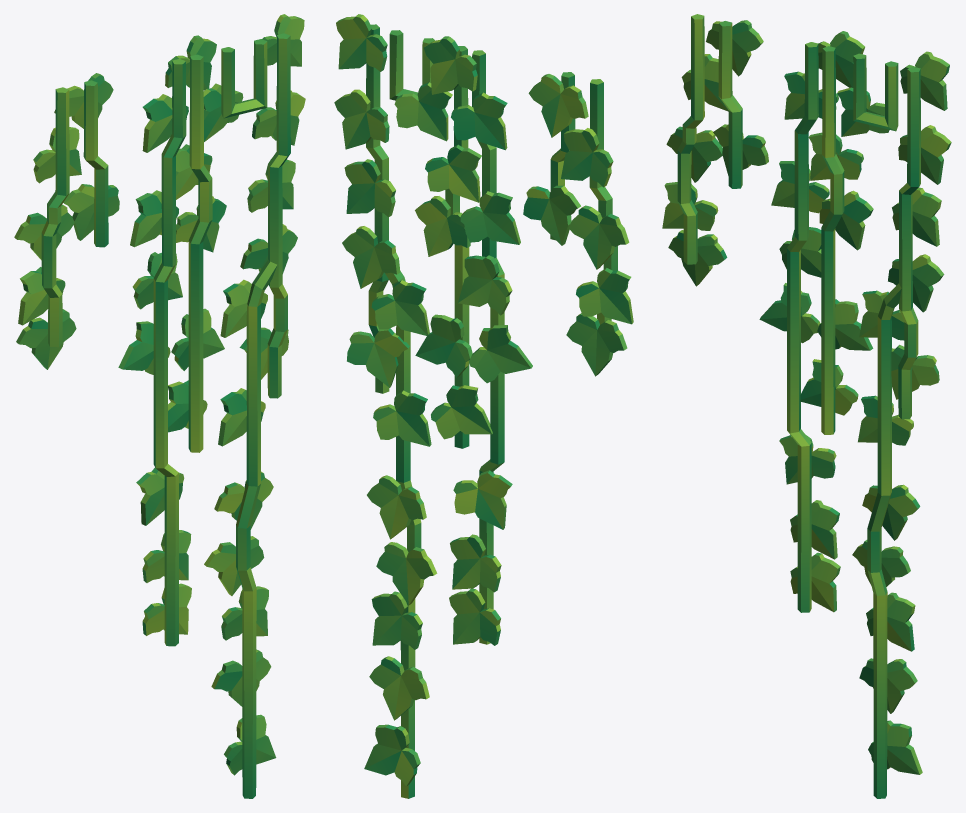
File: ENREDADERA.fbx
3 views of the same model, side by side, from view 1: azimuth 30°, elevation 25°; view 2: azimuth 150°, elevation 25°; view 3: azimuth 330°, elevation 25° (orthographic). The views are drawn at different scales.
Visible parts, largest first — view 1: plantas colgantes; view 2: plantas colgantes; view 3: plantas colgantes.
Part boxes in pixels (bbox=[...]): plantas colgantes: bbox=[14, 14, 305, 798]; plantas colgantes: bbox=[334, 14, 633, 798]; plantas colgantes: bbox=[662, 14, 951, 798].
Bounding box in the file's own units: 119 × 12.19 × 302.
Materials: 1 (1 with a texture image).
